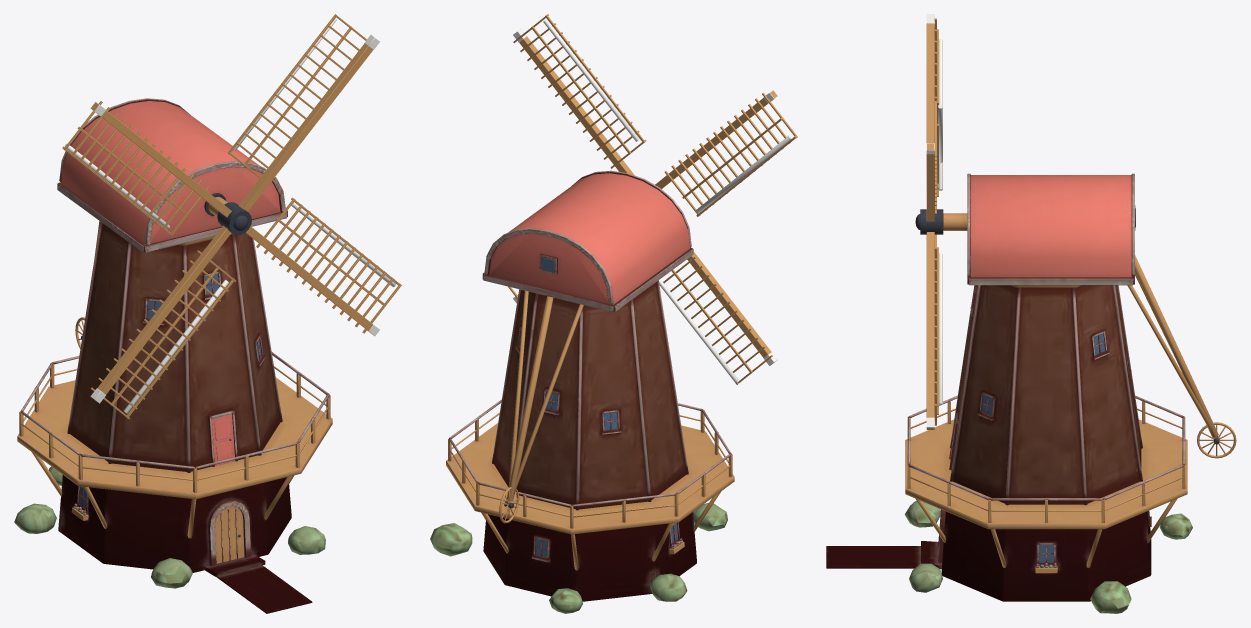
The model's file is windmill.glb.
3 views of the same model, side by side, from view 1: azimuth 30°, elevation 25°; view 2: azimuth 150°, elevation 25°; view 3: azimuth 270°, elevation 25° (orthographic). The views are drawn at different scales.
Visible parts, largest first — view 1: windmill_body, windmill_sails; view 2: windmill_body, windmill_sails; view 3: windmill_body, windmill_sails.
Part boxes in pixels (box(x1,y1,x2,y2)): windmill_body: box(14, 98, 332, 613); windmill_sails: box(62, 14, 401, 419); windmill_body: box(430, 170, 734, 613); windmill_sails: box(508, 14, 797, 384); windmill_body: box(826, 173, 1236, 613); windmill_sails: box(915, 14, 943, 429).
Bounding box in the file's own units: 16.16 × 24.08 × 17.71.
Materials: 4 (1 with a texture image).
